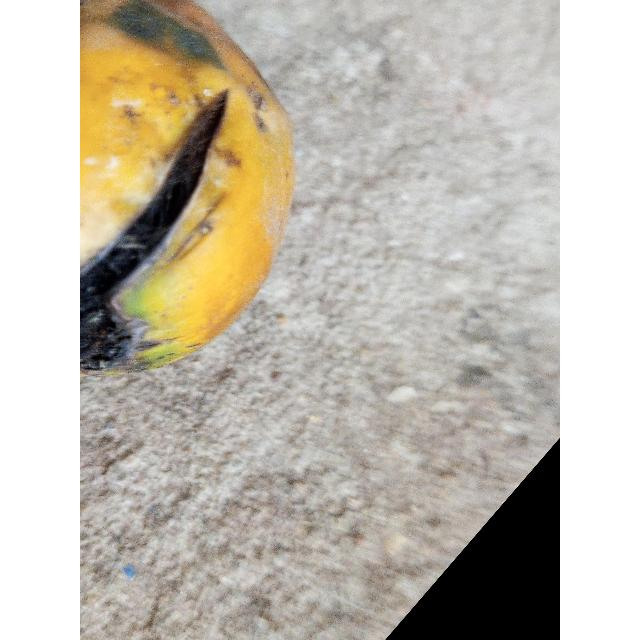damaged: (80, 0, 293, 374)
